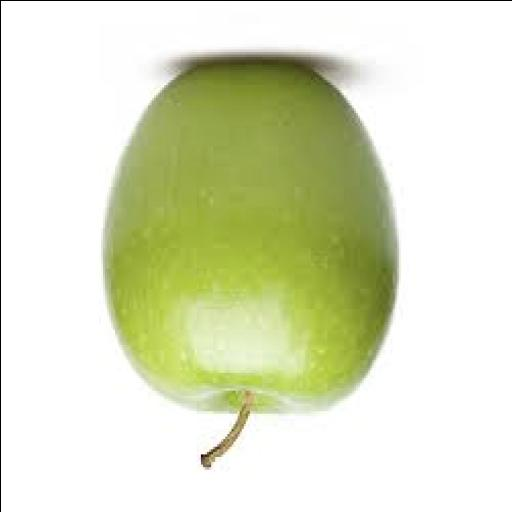apple: (103, 62, 396, 466)
